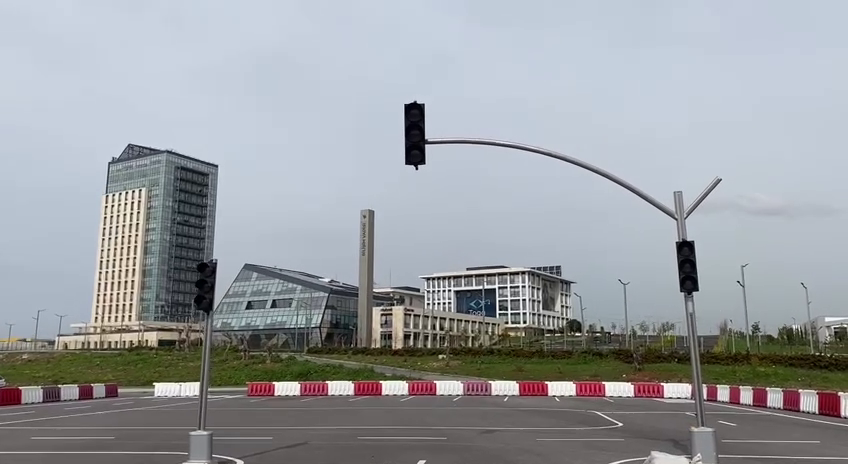trafficLight: (399, 97, 431, 173), (191, 256, 219, 319), (673, 238, 700, 296)
